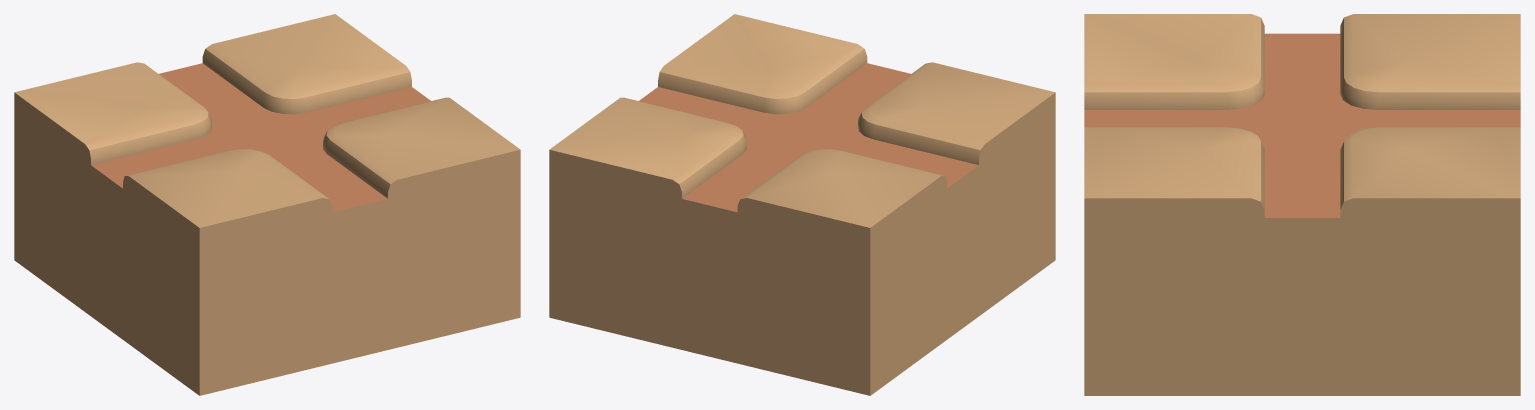
The model's file is square_sand_roadE.glb.
3 views of the same model, side by side, from view 1: azimuth 30°, elevation 25°; view 2: azimuth 150°, elevation 25°; view 3: azimuth 270°, elevation 25° (orthographic). The views are drawn at different scales.
Visible parts, largest first — view 1: square_sand_roadE; view 2: square_sand_roadE; view 3: square_sand_roadE.
Boxes of the visible parts, x1,y1,x2,y2 form: square_sand_roadE: (14,14,520,395); square_sand_roadE: (549,14,1055,395); square_sand_roadE: (1084,14,1520,395).
Size of the model in its own units: 3.82 by 1.91 by 3.82.
